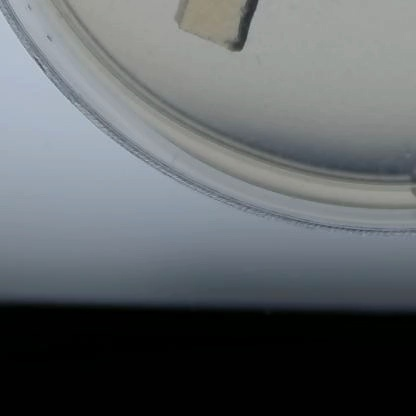worm: (252, 51, 270, 70)
